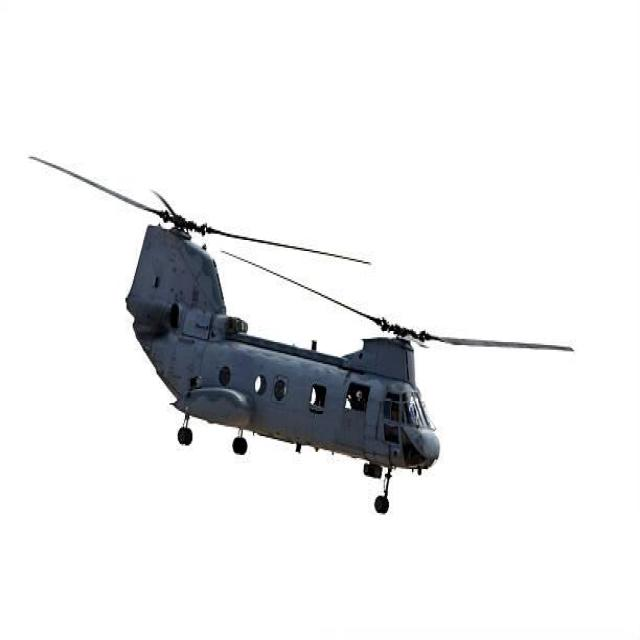Helicopter: (99, 178, 450, 555)
